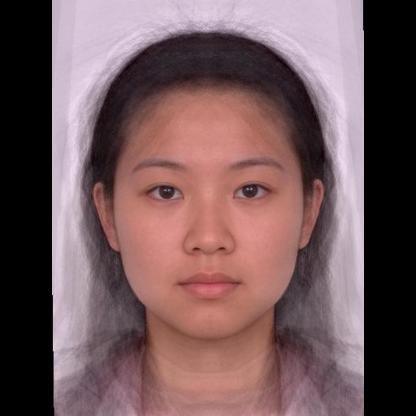Female: (91, 82, 325, 341)
